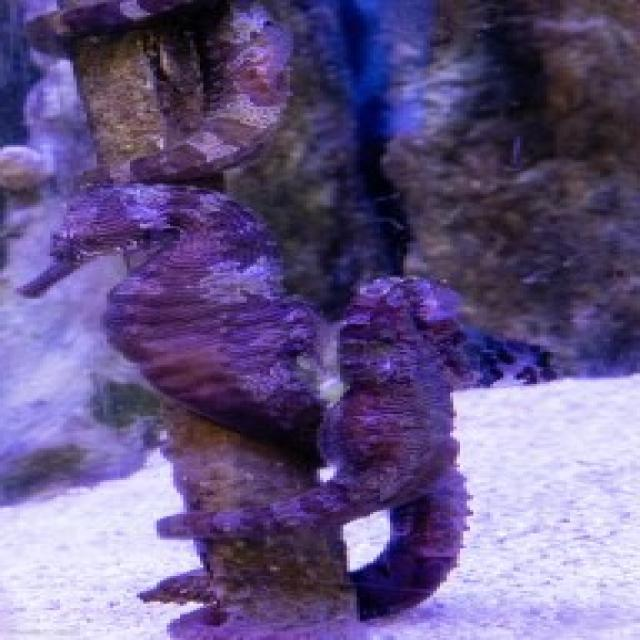Seahorse: (42, 164, 306, 438), (337, 271, 509, 519)
